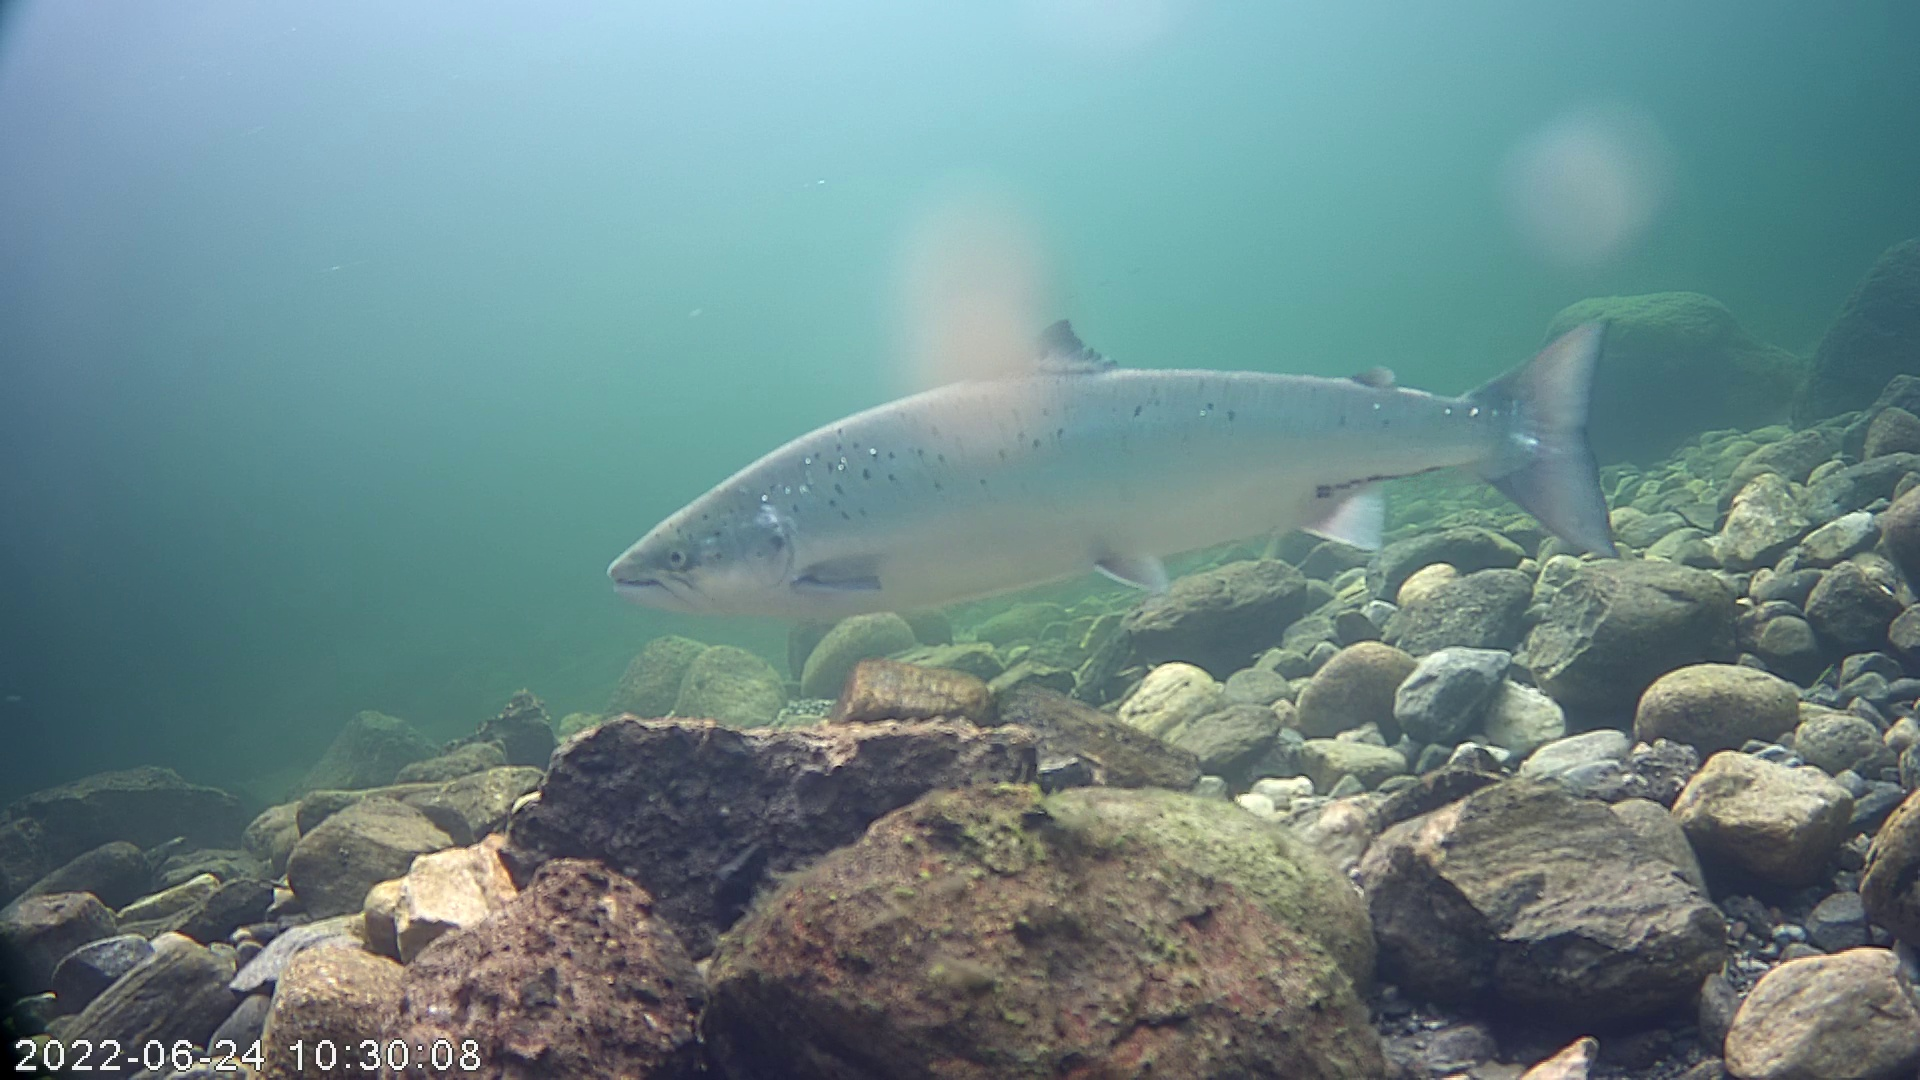salmon: (605, 311, 1615, 626)
